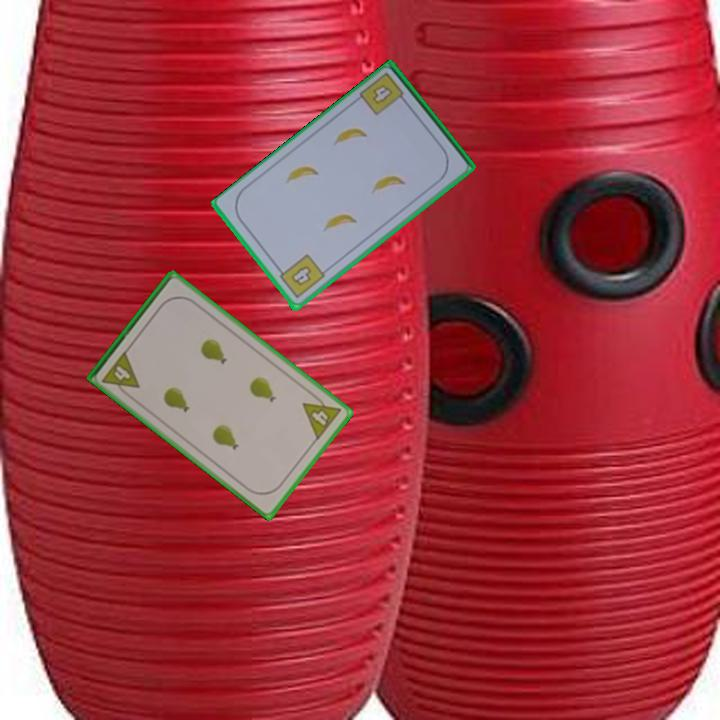4b: (273, 251, 328, 302), (369, 81, 393, 107)
4p: (299, 389, 344, 443), (99, 347, 143, 400)
